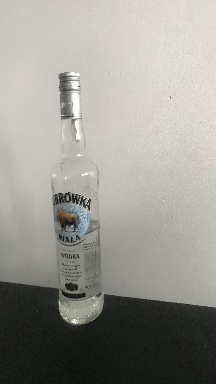butelka: (48, 68, 105, 327)
